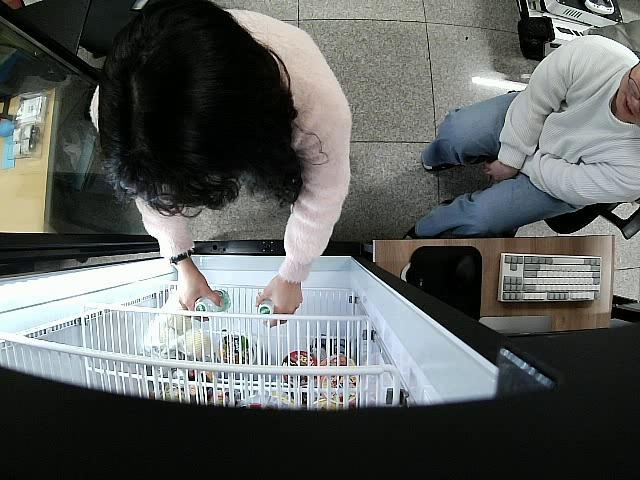18_trevi: (191, 289, 230, 322), (256, 297, 278, 321)
